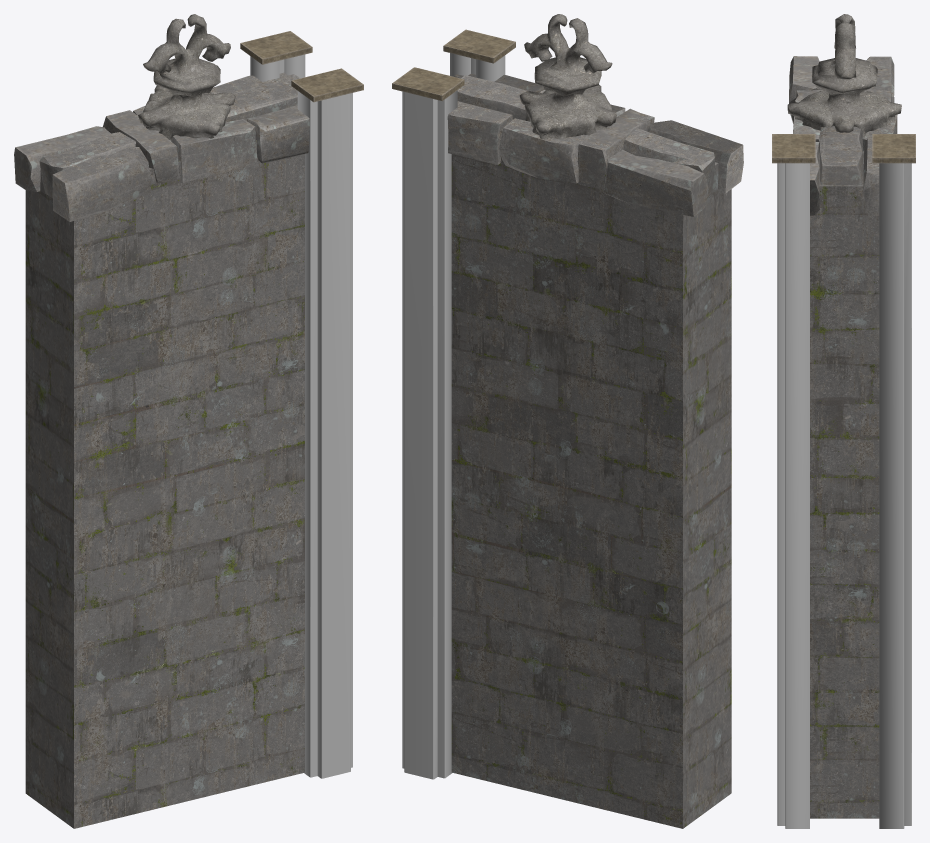
Rendered from SM_Ex_Stair_Wall_2.fbx.
3 renders of one model, left to right at view 1: azimuth 30°, elevation 25°; view 2: azimuth 150°, elevation 25°; view 3: azimuth 270°, elevation 25°, orthographic. The views are drawn at different scales.
Parts seen in each view (by area): view 1: SM_Ex_Stair_Wall_2_LOD0; view 2: SM_Ex_Stair_Wall_2_LOD0; view 3: SM_Ex_Stair_Wall_2_LOD0.
Boxes of the visible parts, left/top/right/bottom form: SM_Ex_Stair_Wall_2_LOD0: left=14, top=14, right=363, bottom=828; SM_Ex_Stair_Wall_2_LOD0: left=392, top=14, right=743, bottom=828; SM_Ex_Stair_Wall_2_LOD0: left=772, top=14, right=915, bottom=828.
Bounding box in the file's own units: 226 × 99.85 × 570.
